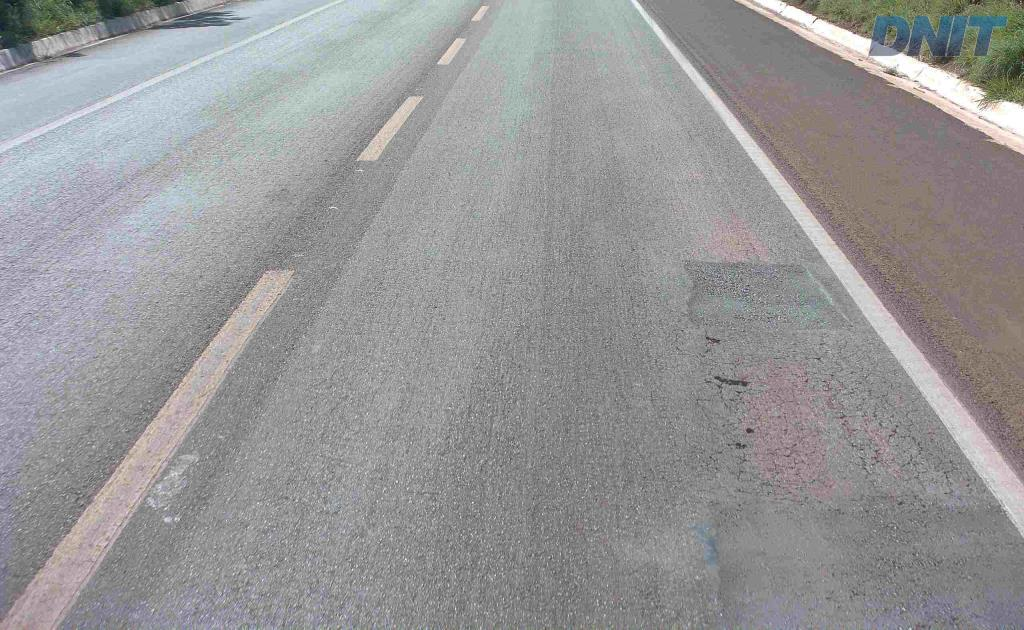pothole: (709, 371, 755, 394), (698, 329, 721, 346)
